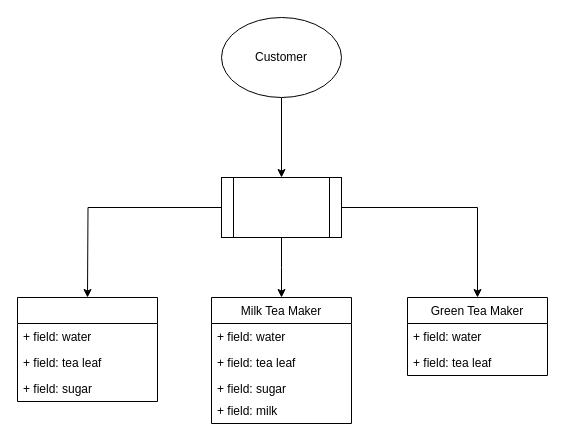
The diagram is 565 pixels wide and 444 high, and some of its shapes have lost their labels. The box of each missing label's shape, as (x1, y1, x2, y2) in pixels:
Counter: (220, 176, 342, 238)
Red Tea Maker: (16, 296, 158, 402)
